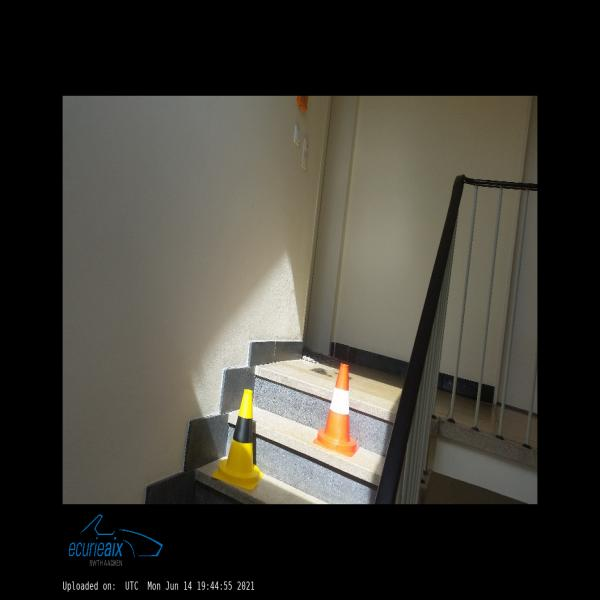orange_cone: (313, 364, 359, 457)
yellow_cone: (212, 389, 263, 490)
